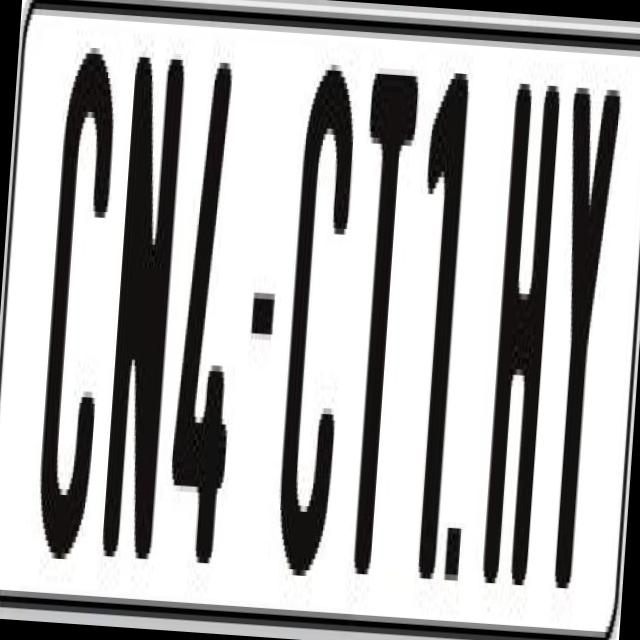1: (392, 65, 472, 608)
4: (160, 54, 257, 593)
C: (29, 51, 123, 578), (272, 68, 358, 582)
H: (479, 71, 566, 609)
N: (95, 56, 186, 588)
T: (334, 56, 416, 564)
Y: (536, 81, 618, 607)
